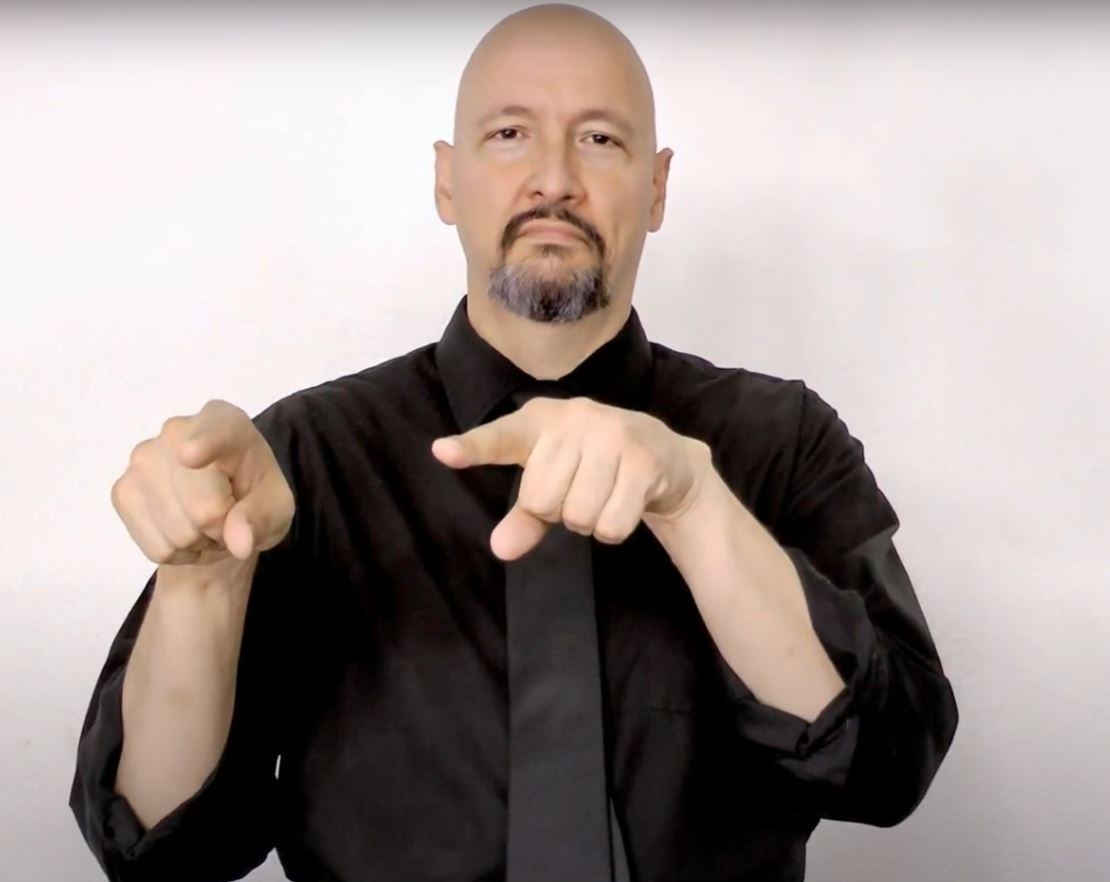go: (79, 353, 736, 643)
